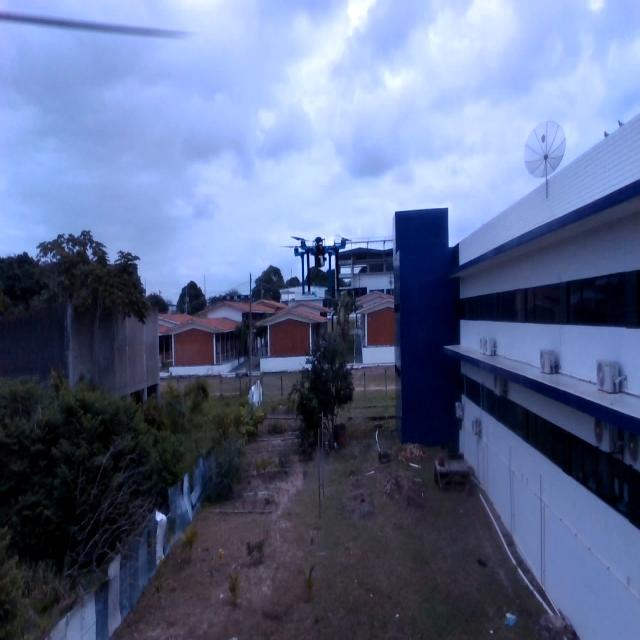-uav-: (282, 220, 354, 290)
